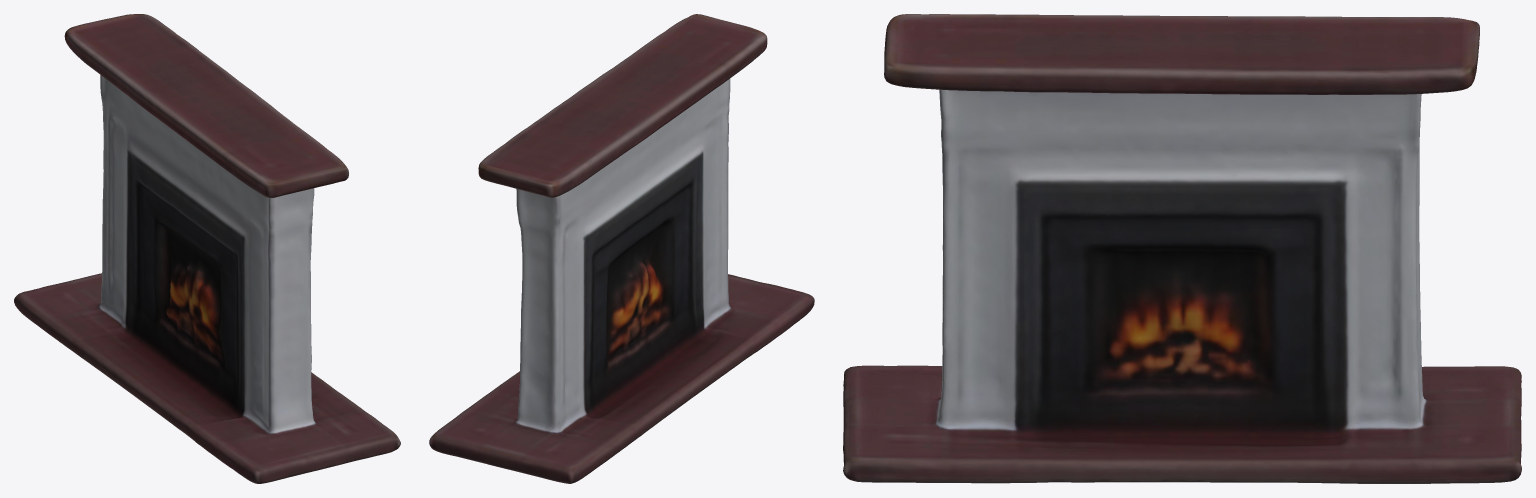
The model's file is b493f678055d_Fireplace__3d_asset.fbx.
3 renders of one model, left to right at view 1: azimuth 30°, elevation 25°; view 2: azimuth 150°, elevation 25°; view 3: azimuth 270°, elevation 25°, orthographic. The views are drawn at different scales.
Visible parts, largest first — view 1: high_poly; view 2: high_poly; view 3: high_poly.
Boxes of the visible parts, x1,y1,x2,y2 form: high_poly: (14, 14, 400, 483); high_poly: (429, 14, 814, 483); high_poly: (843, 14, 1521, 483).
Size of the model in its own units: 35.27 by 64.06 by 100.
